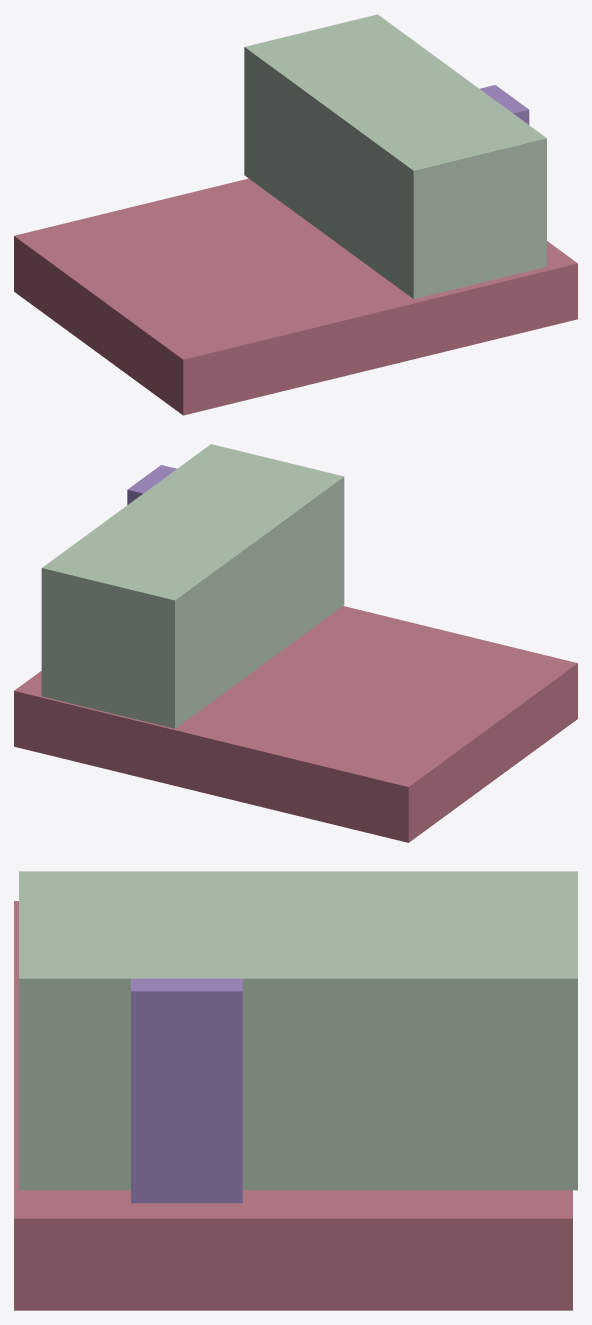
The model's file is 199534_pred.glb.
3 views of the same model, one above another, from view 1: azimuth 30°, elevation 25°; view 2: azimuth 150°, elevation 25°; view 3: azimuth 270°, elevation 25° (orthographic). The views are drawn at different scales.
Visible parts, largest first — view 1: world; view 2: world; view 3: world.
Part boxes in pixels (<box>): world: <box>14,14,577,415</box>; world: <box>14,444,577,842</box>; world: <box>14,871,577,1310</box>.
Size of the model in its own units: 7.4 by 3.35 by 5.55.
